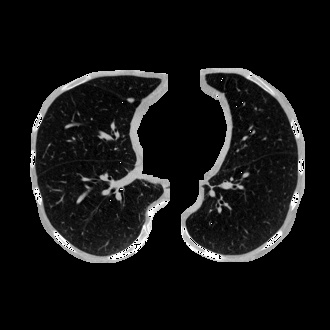PN: (126, 95, 134, 103)
